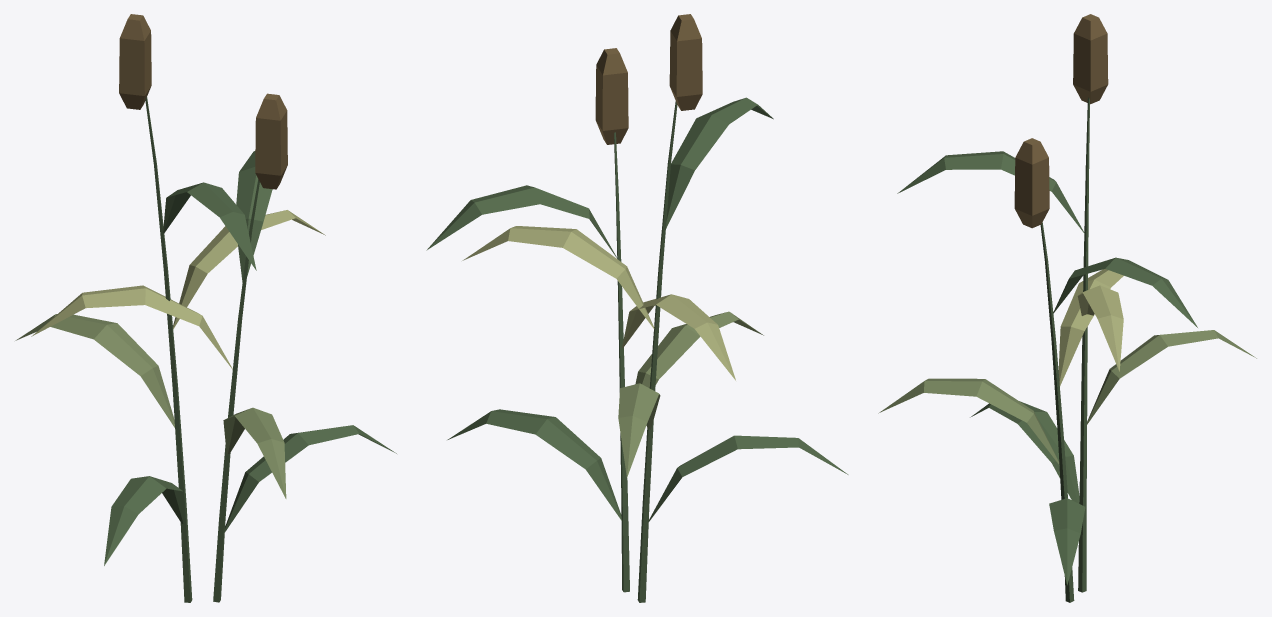
File: OASIS_REED.lo.glb
3 views of the same model, side by side, from view 1: azimuth 30°, elevation 25°; view 2: azimuth 150°, elevation 25°; view 3: azimuth 270°, elevation 25° (orthographic). The views are drawn at different scales.
Parts seen in each view (by area): view 1: OASIS_REED; view 2: OASIS_REED; view 3: OASIS_REED.
Boxes of the visible parts, x1=… form: OASIS_REED: x1=15, y1=14, x2=396, y2=602; OASIS_REED: x1=426, y1=14, x2=848, y2=602; OASIS_REED: x1=878, y1=14, x2=1256, y2=602.
Size of the model in its own units: 0.5291 by 0.8653 by 0.5399.
Materials: 1 (1 with a texture image).
